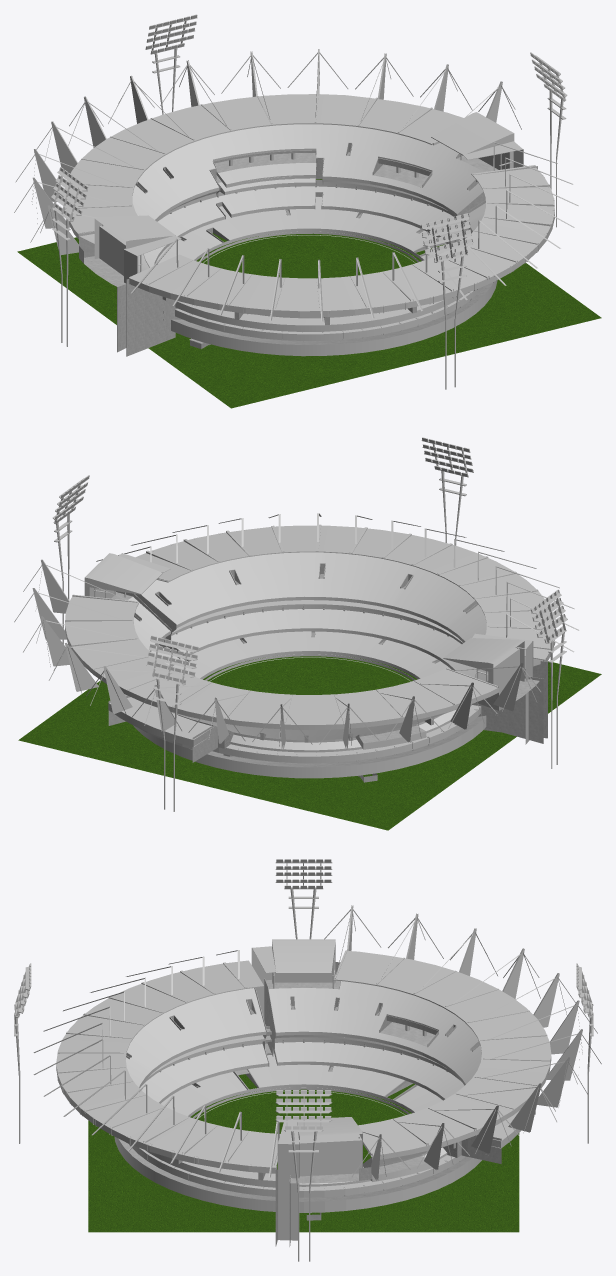
Rendered from Stadium_1.fbx.
3 views of the same model, one above another, from view 1: azimuth 30°, elevation 25°; view 2: azimuth 150°, elevation 25°; view 3: azimuth 270°, elevation 25° (orthographic).
Parts seen in each view (by area): view 1: pitch, SM255, SM8, SM244, SM236, SM226, SM235, SM21, SM237, SM203, SM9, SM256 (+25 smaller); view 2: pitch, SM8, SM23, SM255, SM236, SM226, SM235, SM19, SM237, SM244, SM309, SM205 (+27 smaller); view 3: pitch, SM8, SM255, SM244, SM236, SM23, SM226, SM235, SM237, SM37, SM310, SM254 (+30 smaller).
Boxes of the visible parts, x1,y1,x2,y2 form: pitch: (17, 179, 601, 408); SM255: (129, 167, 554, 311); SM8: (63, 94, 463, 234); SM244: (80, 124, 483, 272); SM236: (143, 186, 463, 267); SM226: (156, 197, 462, 263); SM235: (157, 179, 473, 334); SM21: (171, 280, 497, 356); SM237: (174, 179, 483, 340); SM203: (126, 279, 182, 356); SM9: (129, 214, 554, 317); SM256: (420, 213, 473, 389); pitch: (18, 656, 601, 830); SM8: (65, 596, 498, 724); SM23: (141, 552, 542, 681); SM255: (136, 525, 554, 660); SM236: (151, 609, 476, 677); SM226: (167, 631, 450, 678); SM235: (156, 600, 480, 756); SM19: (133, 716, 486, 778); SM237: (174, 606, 481, 763); SM244: (128, 597, 455, 740); SM309: (146, 635, 198, 811); SM205: (472, 676, 543, 743); pitch: (88, 1074, 519, 1232); SM8: (333, 951, 551, 1155); SM255: (56, 960, 277, 1167); SM244: (269, 981, 481, 1164); SM236: (140, 1042, 464, 1102); SM23: (125, 988, 265, 1086); SM226: (161, 1053, 442, 1115); SM235: (139, 1035, 459, 1190); SM237: (129, 1039, 465, 1197); SM37: (272, 939, 335, 982); SM310: (275, 1090, 332, 1261); SM254: (277, 1118, 299, 1240).
Size of the model in its own units: 3399 by 1068 by 3421.
